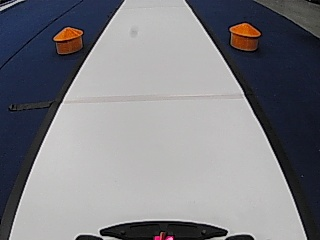granary: (228, 20, 261, 51), (52, 25, 83, 55)
